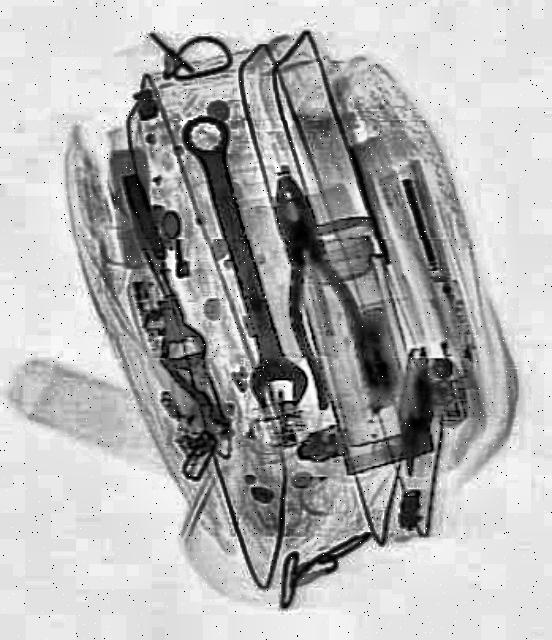Pliers: (247, 167, 383, 415)
Wrench: (170, 108, 312, 422)
